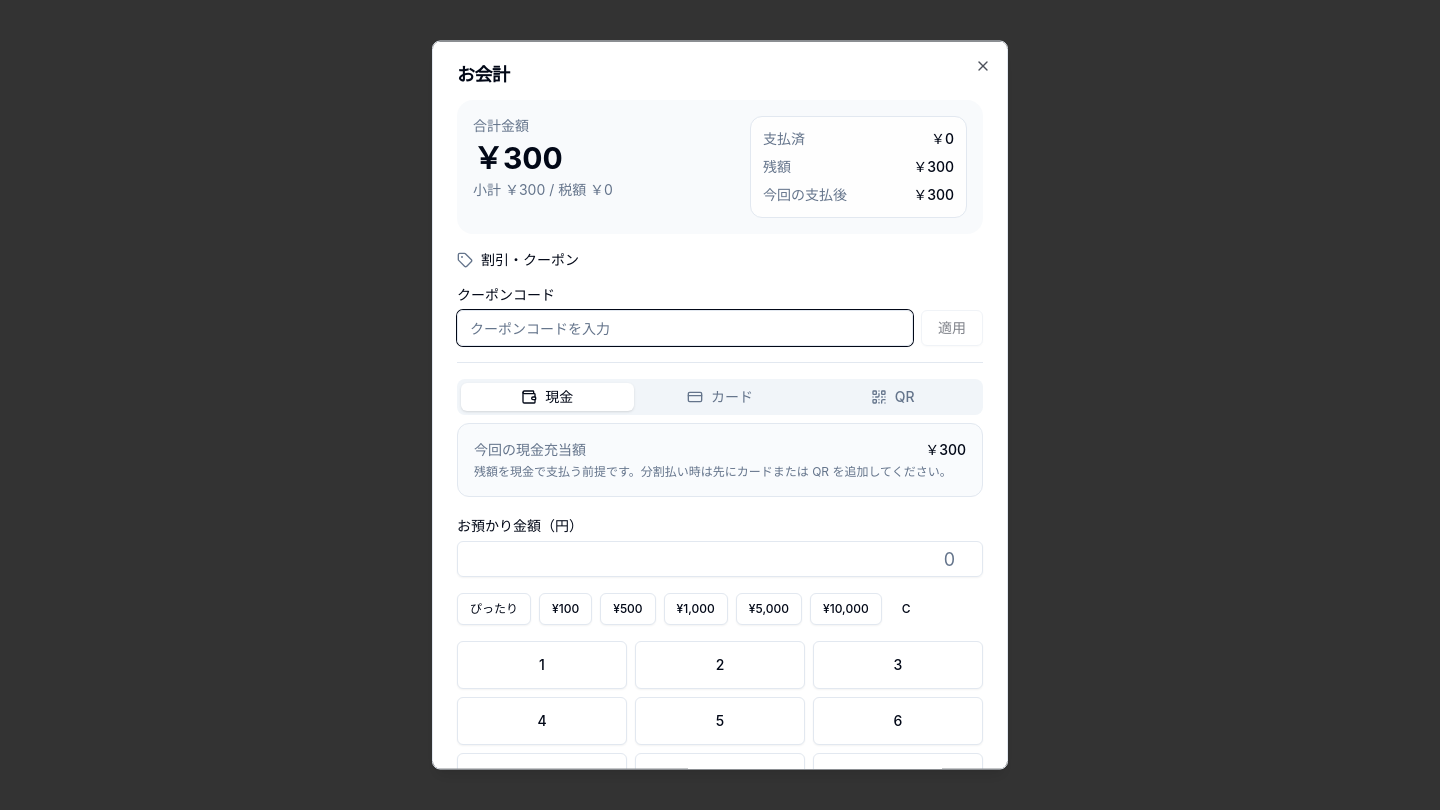
CheckoutDialog › 現金テンキーで金額を入力できる
The width and height of the screenshot is (1440, 810).
Click the button "1" at (542,664), box top-left (457, 640), bottom-right (627, 688)
(page scrolled)
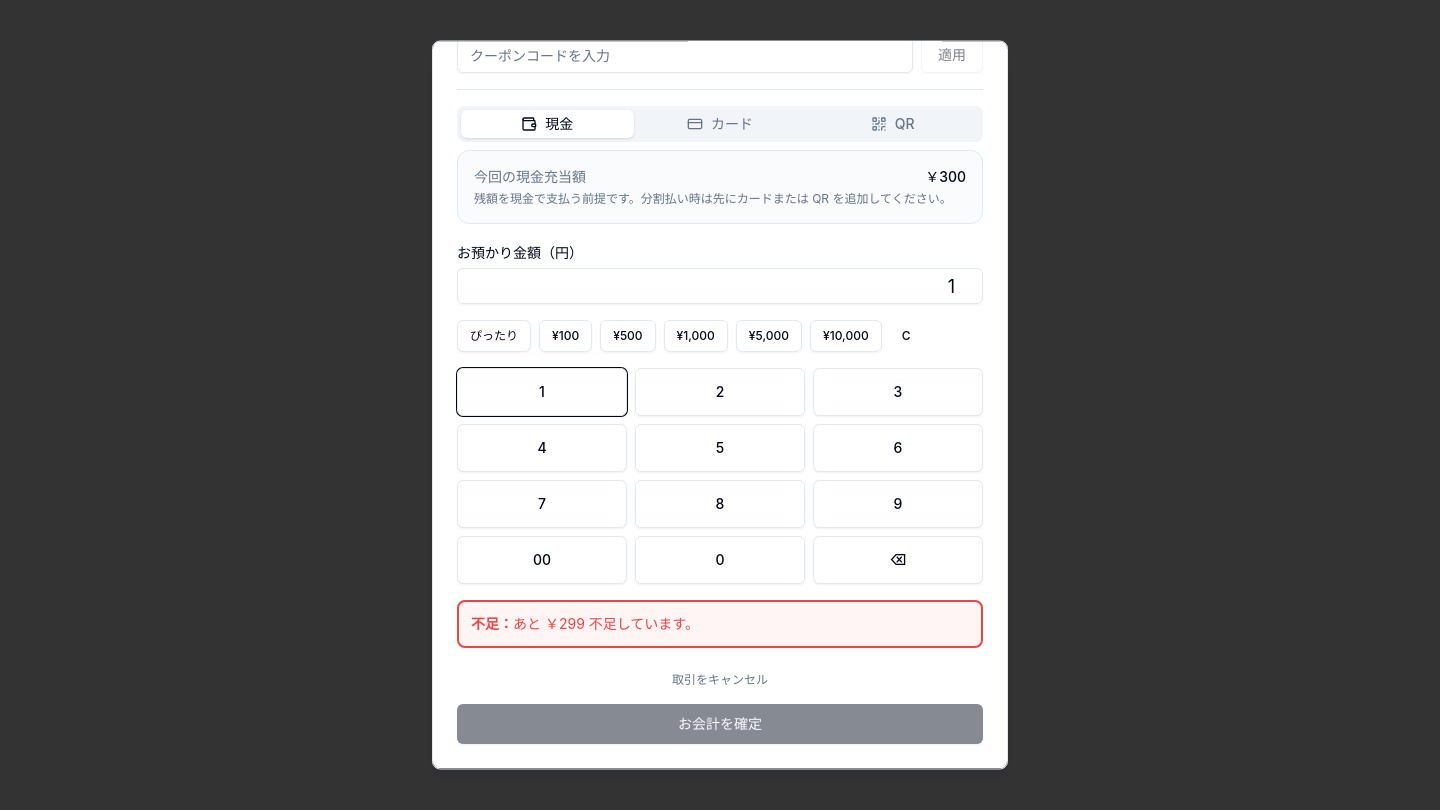
Click the button "0" at (720,560), box top-left (635, 536), bottom-right (805, 584)
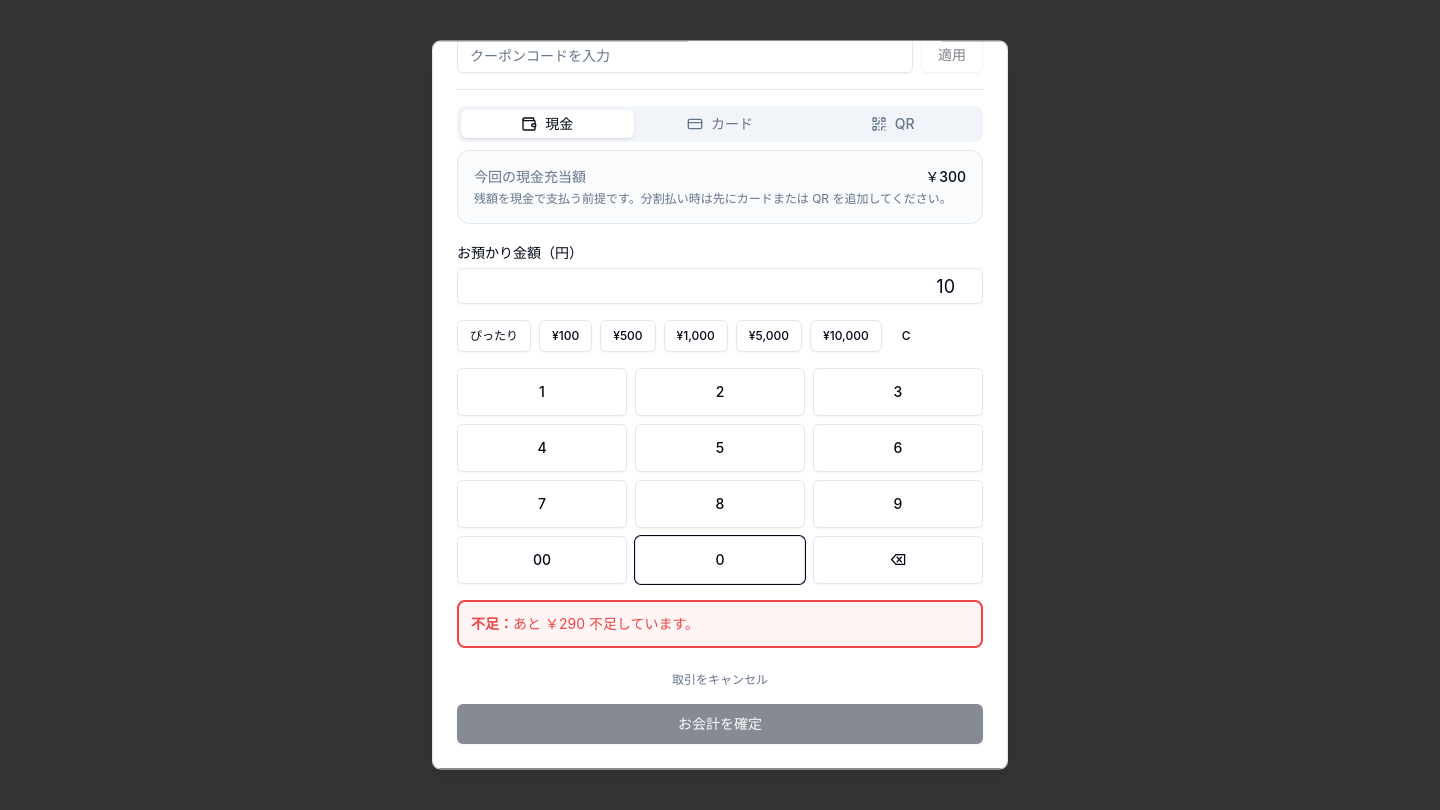
Click the button "0" at (720,560), box top-left (635, 536), bottom-right (805, 584)
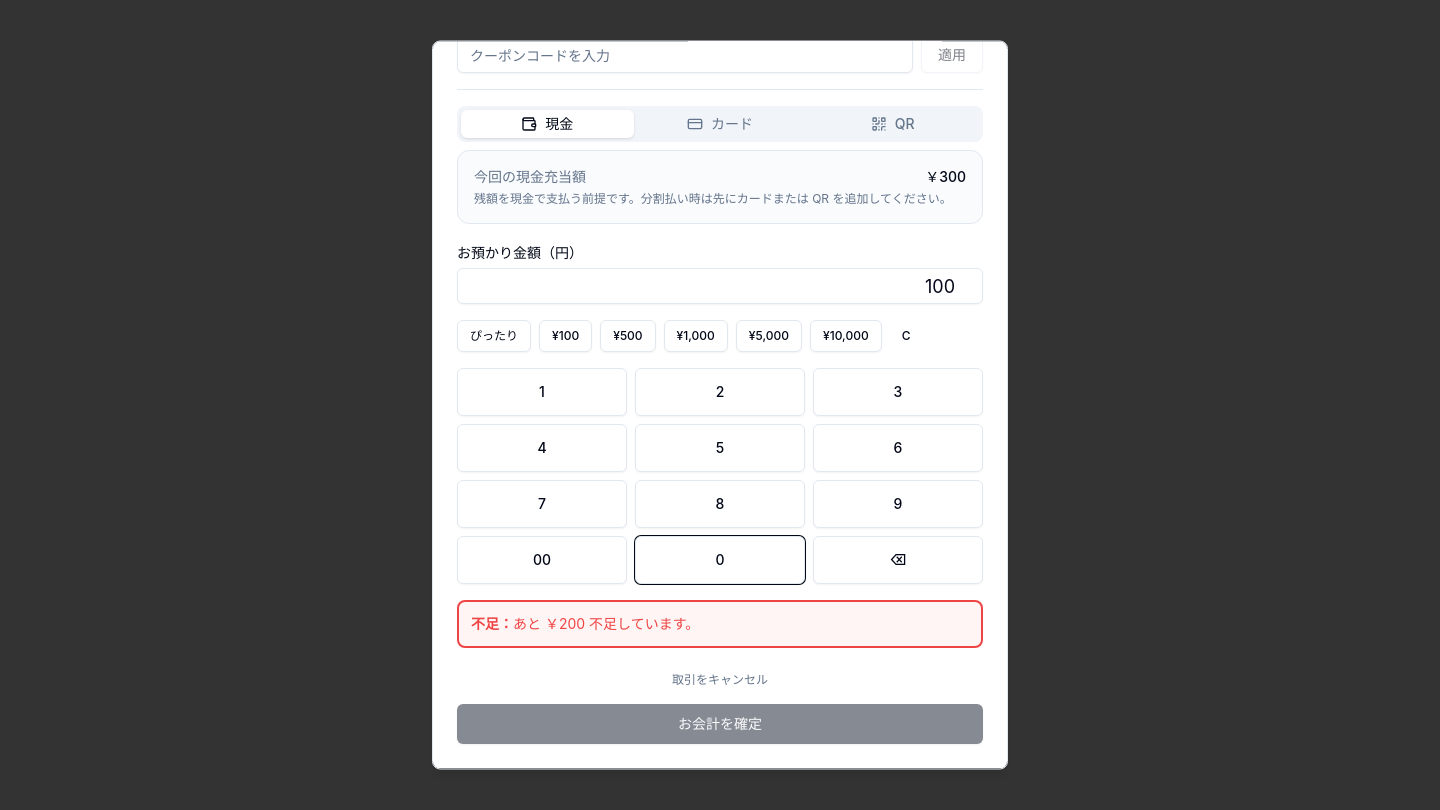
Now the number field with placeholder "0" holds "100", box top-left (457, 268), bottom-right (983, 304)
